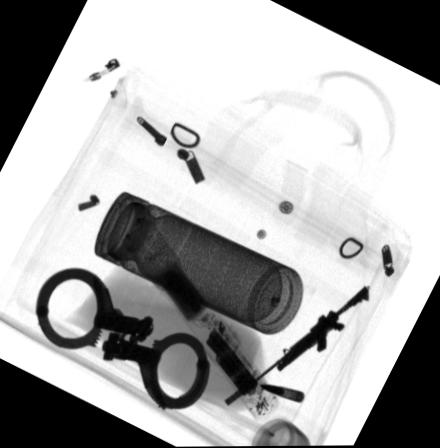Baton: (115, 214, 279, 421)
Bullet: (257, 385, 303, 403)
Gun: (222, 285, 367, 407)
HandCuffs: (34, 268, 209, 411)
